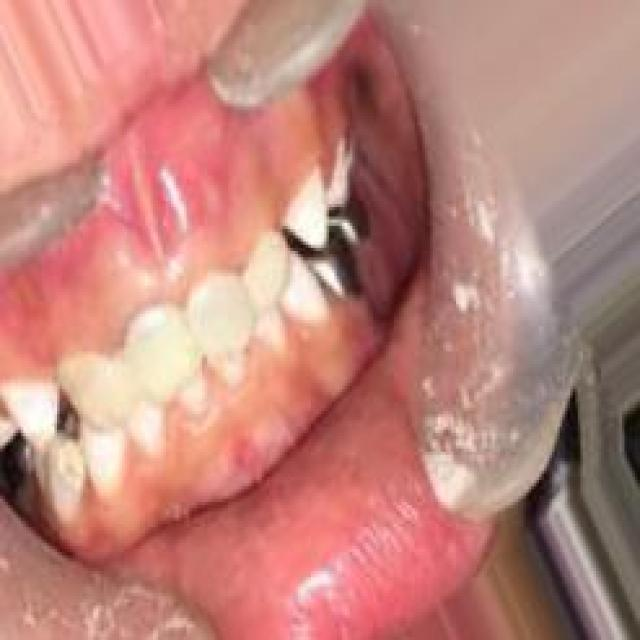caries: (312, 222, 374, 308), (40, 437, 92, 530), (0, 430, 41, 522), (42, 388, 87, 442)
